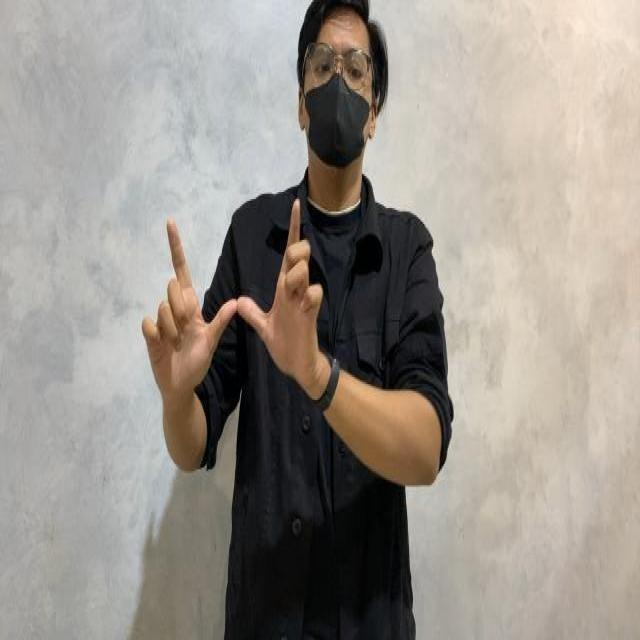W: (136, 186, 338, 397)
